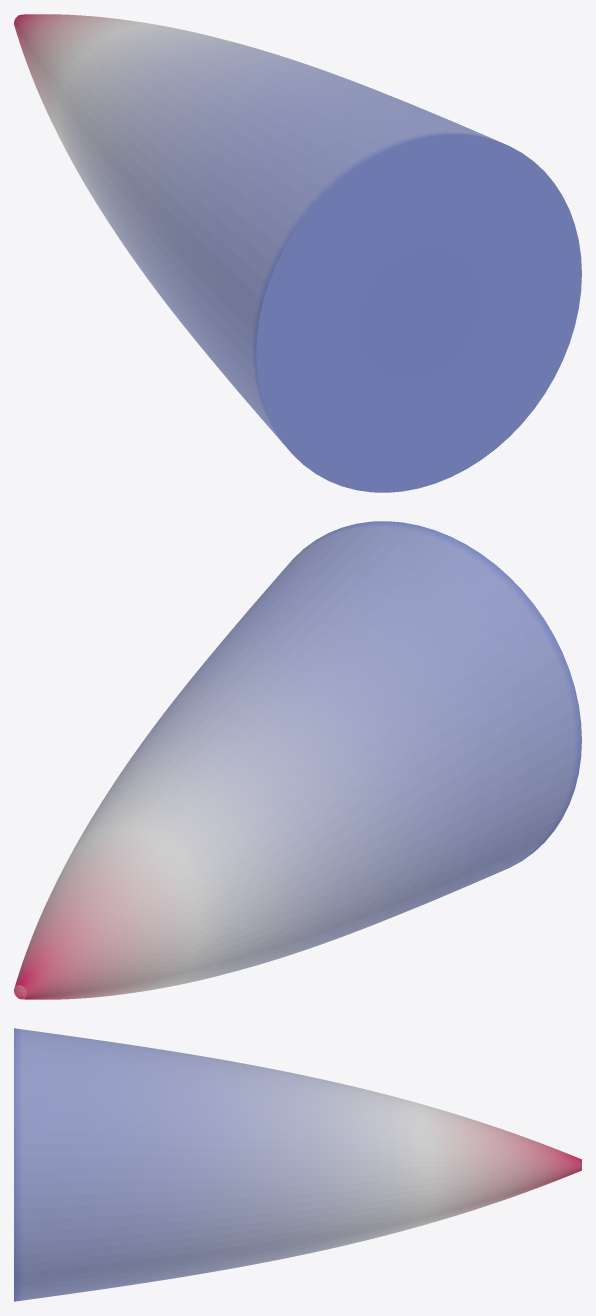
File: frame_004_unlit.glb
The picture shows the model from 3 angles, top to bottom: view 1: azimuth 30°, elevation 25°; view 2: azimuth 150°, elevation 25°; view 3: azimuth 270°, elevation 25°; orthographic projection. The views are drawn at different scales.
Visible parts, largest first — view 1: geometry_0; view 2: geometry_0; view 3: geometry_0.
Boxes of the visible parts, x1,y1,x2,y2 form: geometry_0: [14, 14, 581, 492]; geometry_0: [14, 521, 581, 999]; geometry_0: [14, 1028, 581, 1301].
Size of the model in its own units: 0.4718 by 0.484 by 1.
